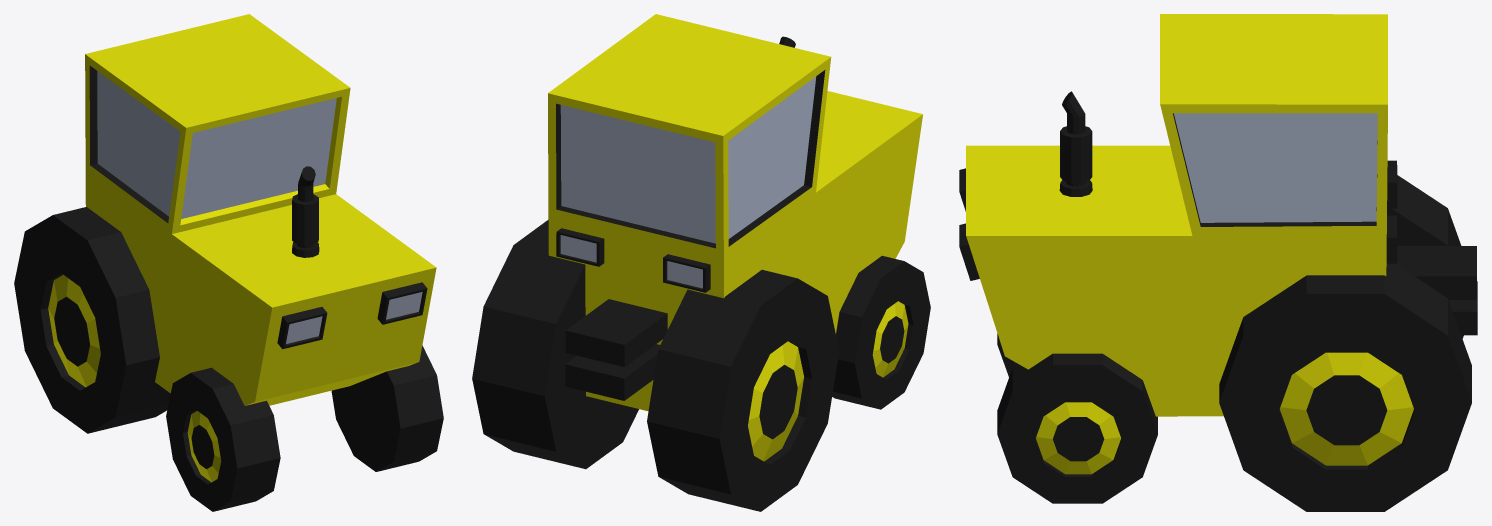
Rendered from Car 4.fbx.
3 renders of one model, left to right at view 1: azimuth 30°, elevation 25°; view 2: azimuth 150°, elevation 25°; view 3: azimuth 270°, elevation 25°, orthographic. The views are drawn at different scales.
Visible parts, largest first — view 1: Car, Back Right Tire, Front Right Tire, Front Left Tire; view 2: Car, Back Right Tire, Back Left Tire, Front Right Tire; view 3: Car, Back Left Tire, Front Left Tire, Back Right Tire.
Boxes of the visible parts, x1,y1,x2,y2 form: Car: (85,14,436,405); Back Right Tire: (14,207,170,433); Front Right Tire: (166,367,280,511); Front Left Tire: (331,345,443,471); Car: (548,14,922,411); Back Right Tire: (647,269,839,511); Back Left Tire: (472,220,638,469); Front Right Tire: (832,255,930,409); Car: (959,14,1477,416); Back Left Tire: (1219,263,1471,511); Front Left Tire: (997,353,1157,503); Back Right Tire: (1387,175,1463,338).
Size of the model in its own units: 2.32 by 3.3 by 3.98.
